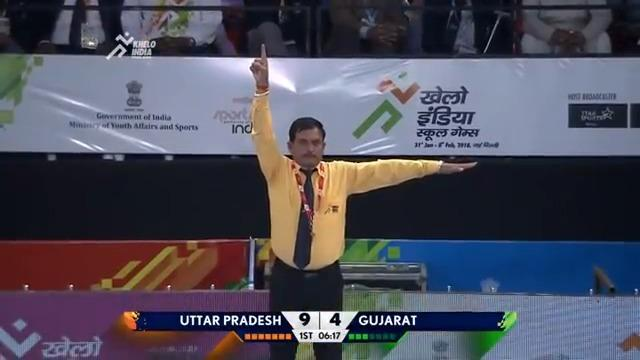referee: (246, 42, 478, 358)
